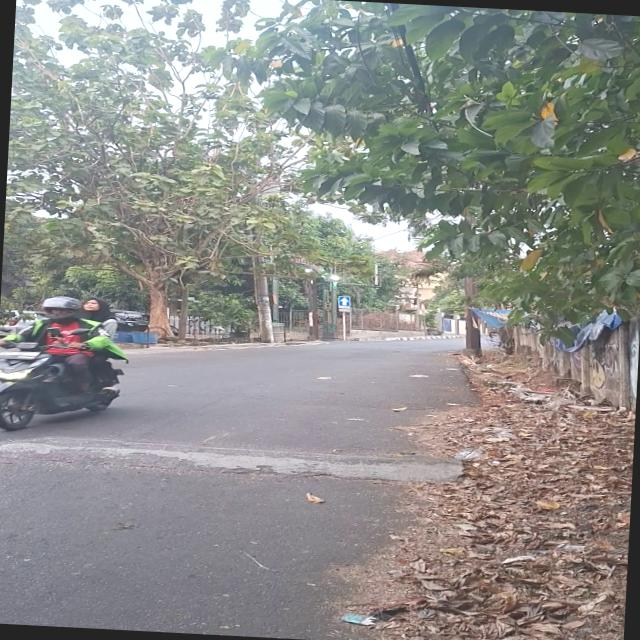WithHelmet: (0, 293, 132, 410)
